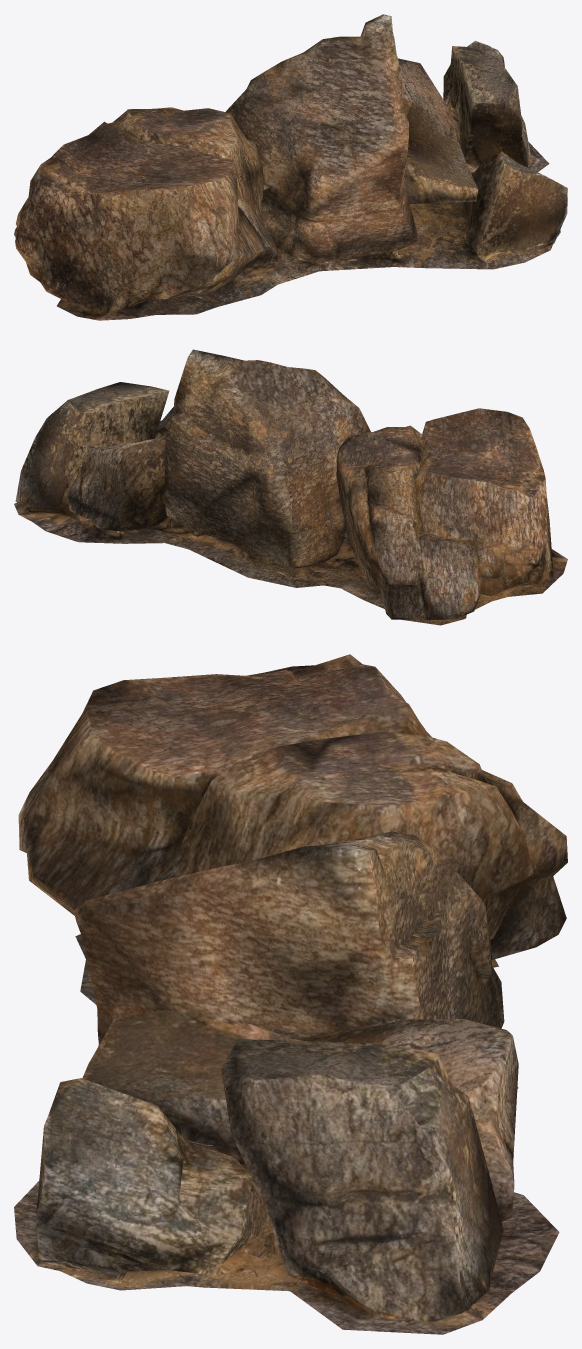
Rendered from boulder_a.glb.
The picture shows the model from 3 angles, top to bottom: view 1: azimuth 30°, elevation 25°; view 2: azimuth 150°, elevation 25°; view 3: azimuth 270°, elevation 25°; orthographic projection. The views are drawn at different scales.
Visible parts, largest first — view 1: boulder_02; view 2: boulder_02; view 3: boulder_02.
Boxes of the visible parts, bbox=[...] form: boulder_02: bbox=[14, 14, 567, 320]; boulder_02: bbox=[14, 349, 567, 625]; boulder_02: bbox=[14, 654, 567, 1334].
Size of the model in its own units: 2.51 by 0.8696 by 1.23.
Materials: 1 (1 with a texture image).
